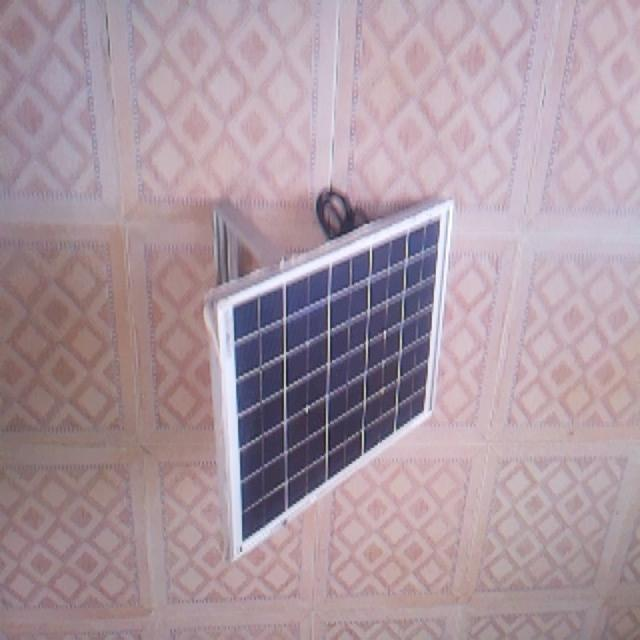Normal Solar Panel: (206, 200, 455, 561)
